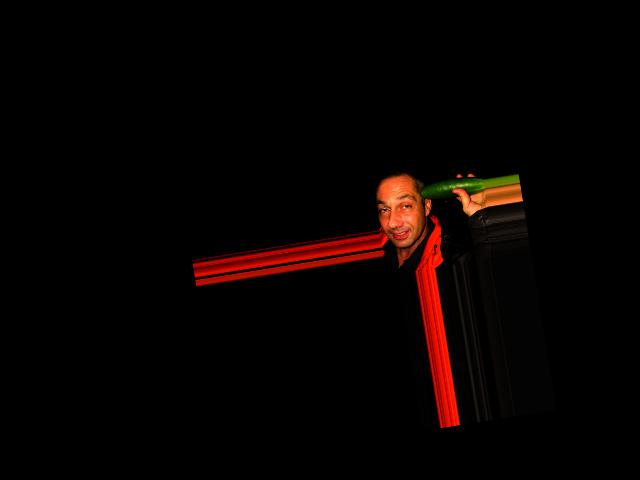cucumber: (417, 173, 485, 202)
